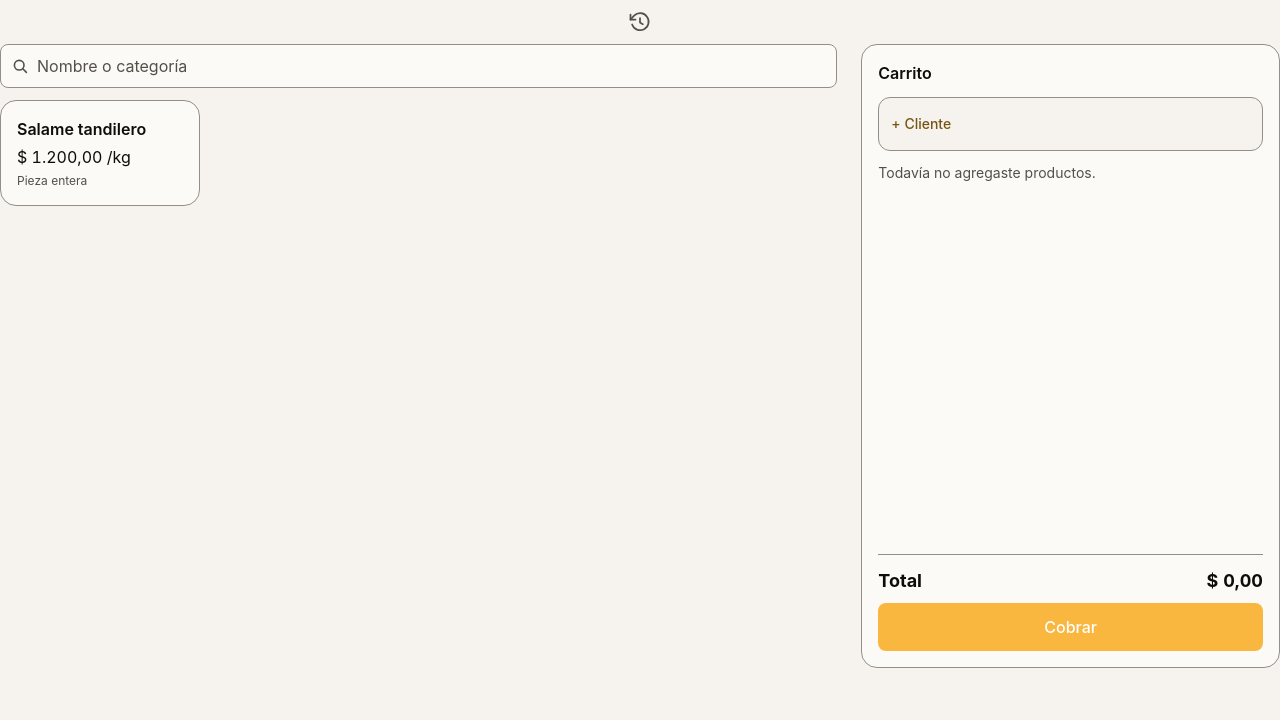
Scenario: Venta - agregar al carrito por modo › pieza_entera: agregar consume la pieza y no vuelve a ofrecerla
The width and height of the screenshot is (1280, 720).
Click the text "Salame tandilero" at (82, 129), box [17,117,146,141]
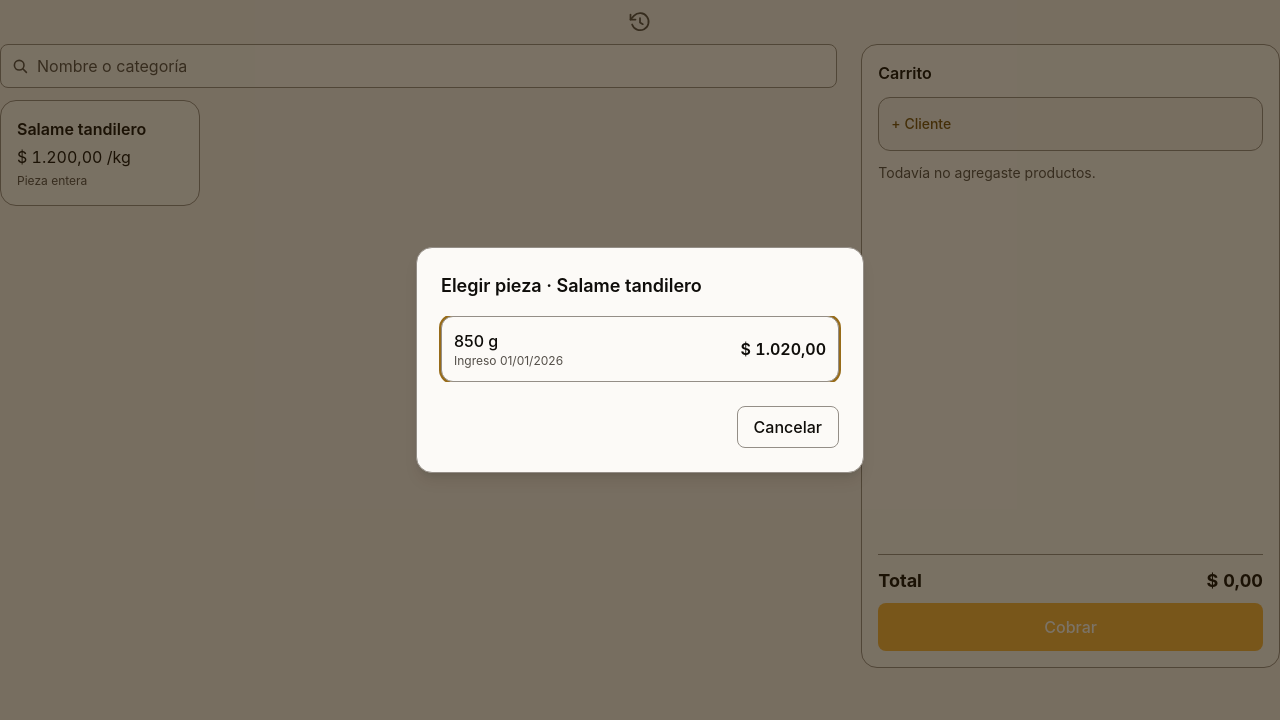
Click the text "850 g" at (476, 341), box [454,331,498,351]
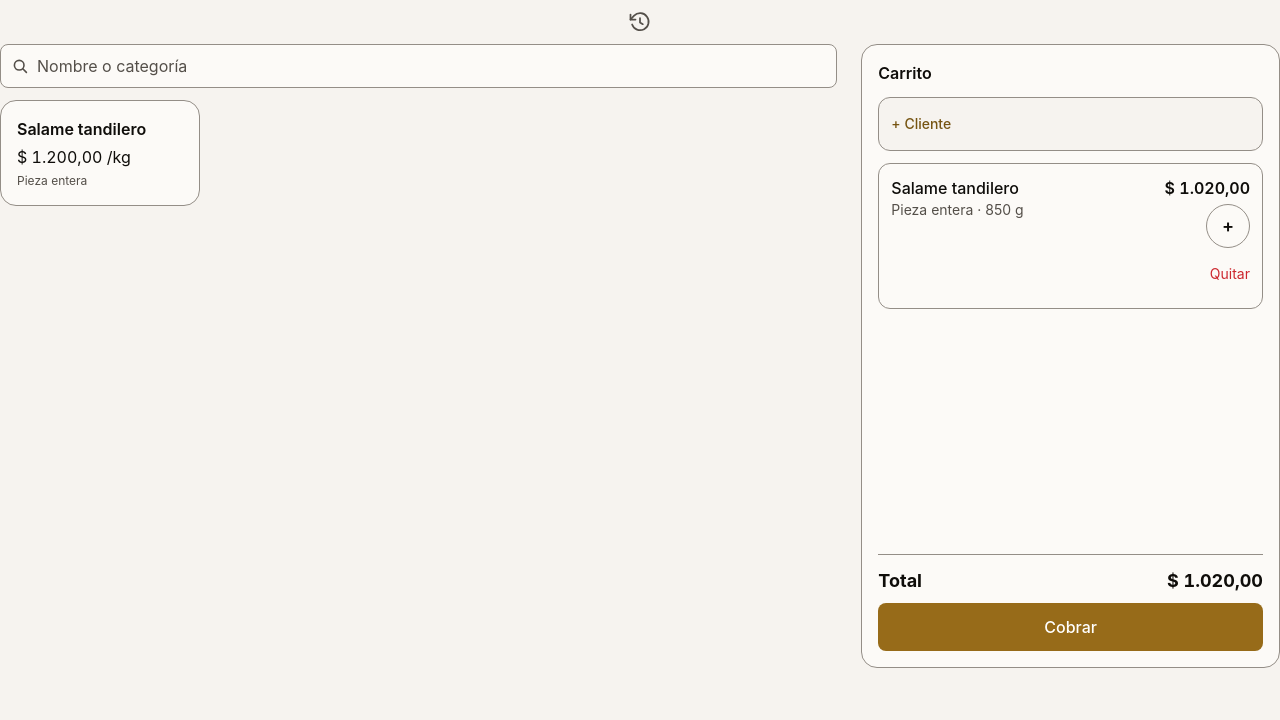
Check: the text "Pieza entera · 850 g" is shown, box [891,200,1024,220]
Click the 1st text "Salame tandilero" at (82, 129), box [17,117,146,141]
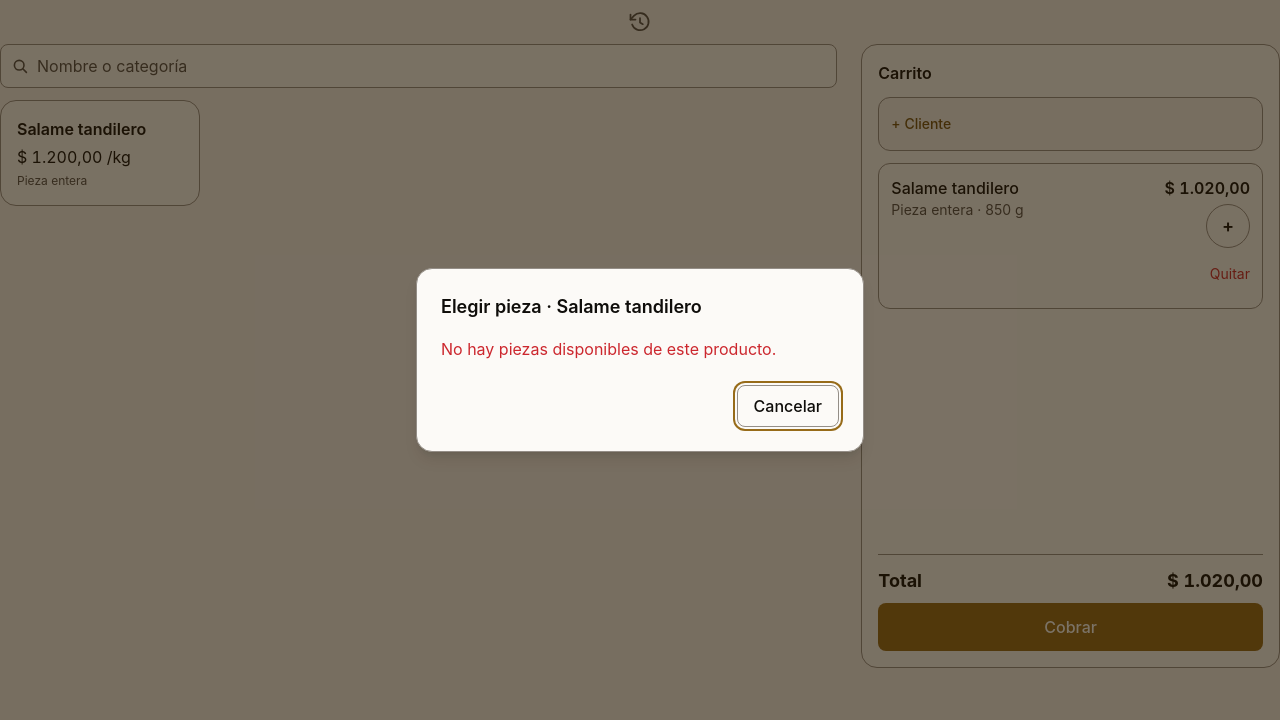
Check: the message shows "No hay piezas disponibles", box [441,339,776,359]
